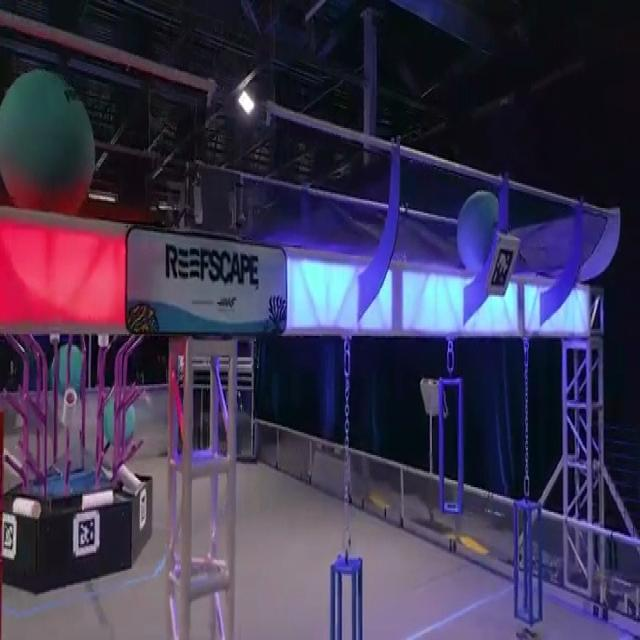Algae: (0, 66, 95, 213), (456, 190, 502, 272)
